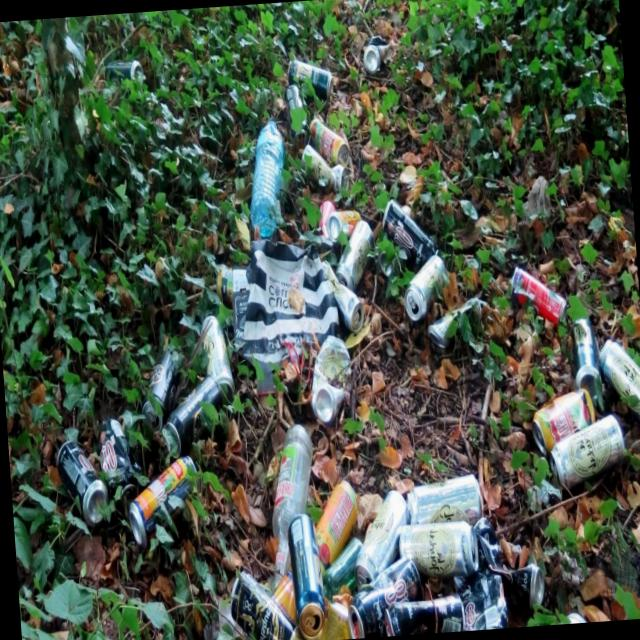garbage: (19, 24, 640, 640)
